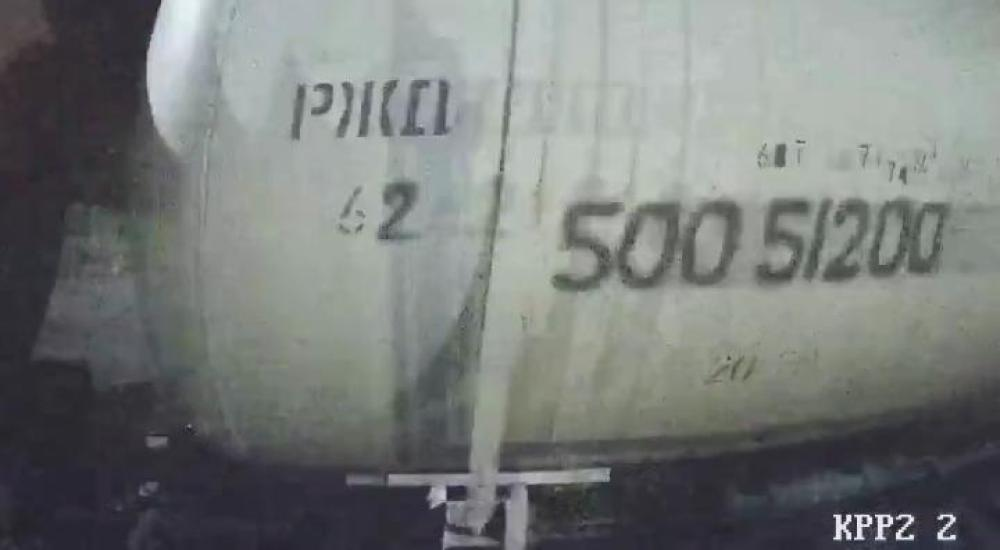Wagon-number: (547, 190, 955, 298)
